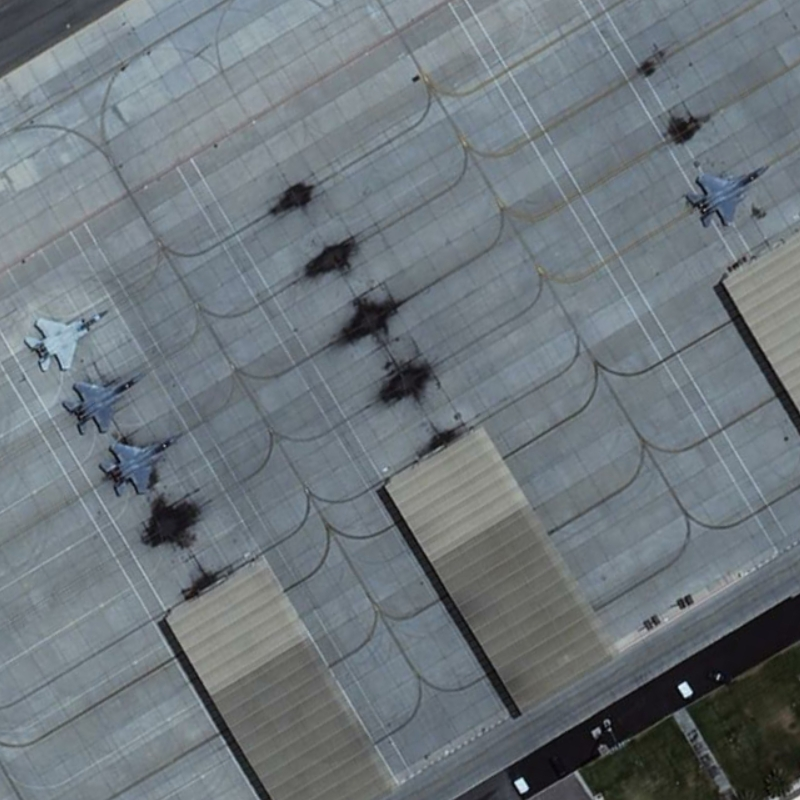A13: (684, 147, 775, 236), (91, 429, 187, 501), (20, 298, 116, 369), (56, 369, 151, 436)
